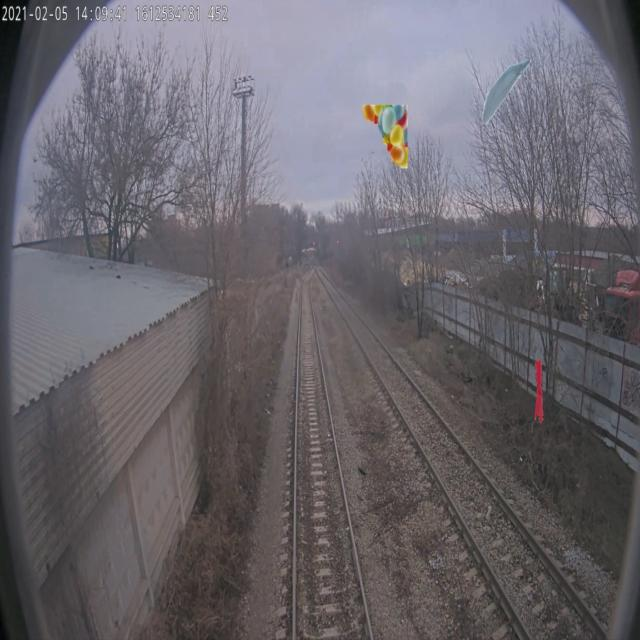balloon: (362, 104, 408, 168)
floating object: (481, 60, 532, 124), (534, 359, 544, 423)
